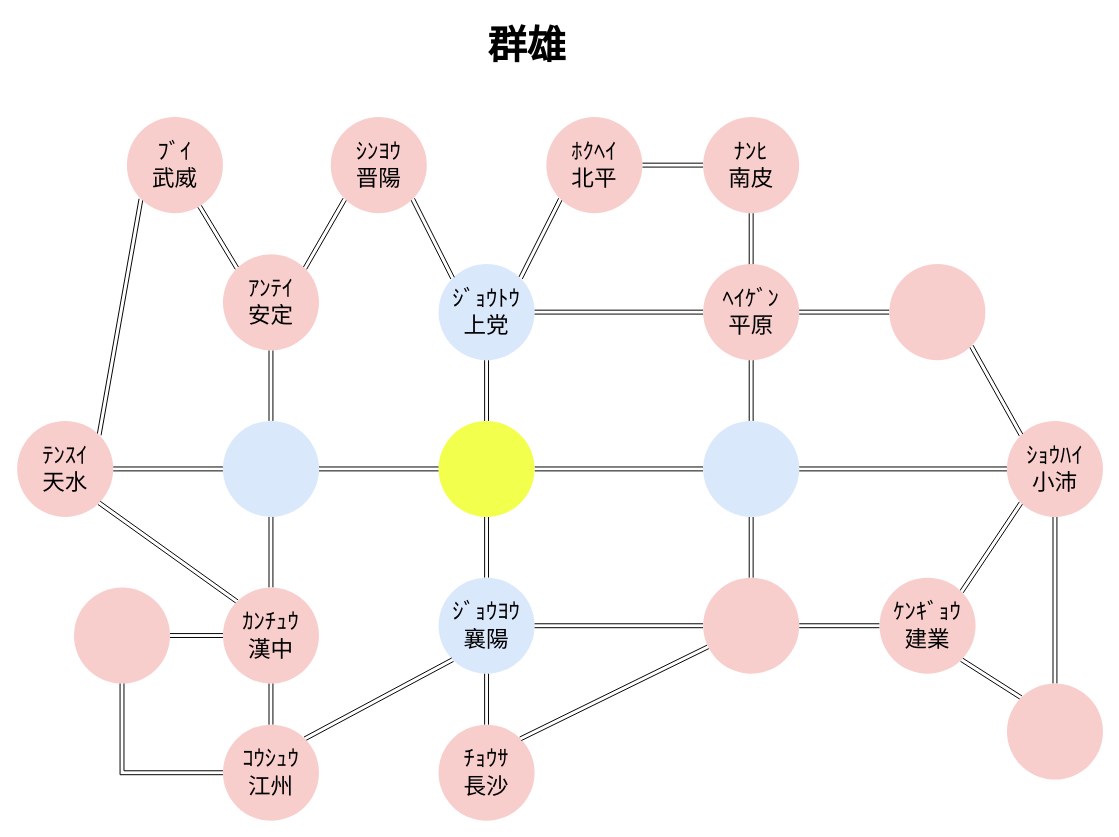
The diagram is 1119 pixels wide and 837 high, and some of its shapes have lost their labels. Here are the shapes that lost their labels. From the top down, the centre of each, then its label:
point (937, 312): ﾎｯｶｲ 北海
point (270, 468): ﾁｮｳｱﾝ 長安
point (486, 468): ﾗｸﾖｳ 洛陽
point (751, 468): ｷｮｼｮｳ 許昌
point (122, 635): ｾｲﾄ 成都
point (751, 625): ﾛｺｳ 盧江
point (1054, 731): ｺﾞｸﾞﾝ 呉群
